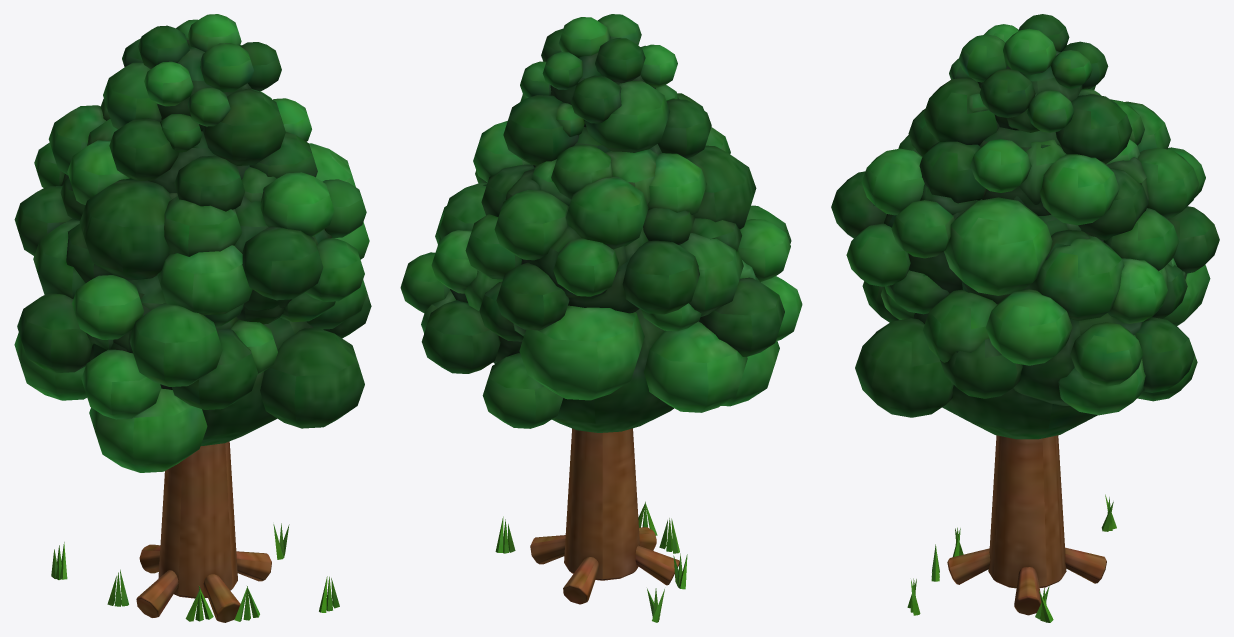
File: black_sapote_tree.glb
3 views of the same model, side by side, from view 1: azimuth 30°, elevation 25°; view 2: azimuth 150°, elevation 25°; view 3: azimuth 270°, elevation 25° (orthographic). The views are drawn at different scales.
Visible parts, largest first — view 1: crown, black_sapote_tree; view 2: crown, black_sapote_tree; view 3: crown, black_sapote_tree.
Part boxes in pixels (x1=…): crown: x1=14, y1=14, x2=371, y2=472; black_sapote_tree: x1=51, y1=441, x2=339, y2=622; crown: x1=400, y1=14, x2=802, y2=432; black_sapote_tree: x1=495, y1=428, x2=687, y2=622; crown: x1=831, y1=14, x2=1219, y2=439; black_sapote_tree: x1=907, y1=435, x2=1116, y2=622.
Size of the model in its own units: 0.9487 by 1.49 by 0.9351.
Materials: 1 (1 with a texture image).
